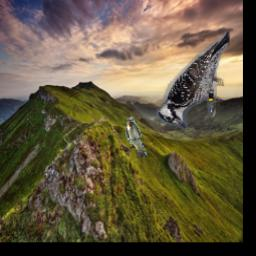Swallow: (126, 118, 148, 158)
Woodpecker: (158, 33, 231, 130)
